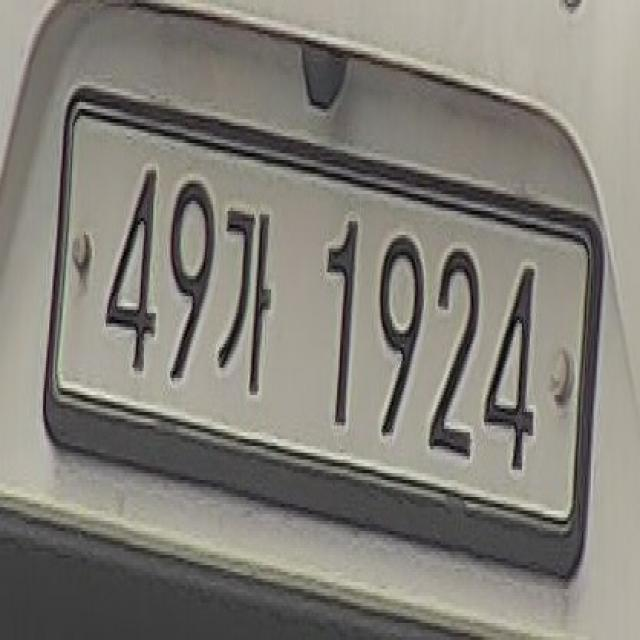1: (312, 204, 362, 446)
2: (430, 242, 480, 470)
4: (102, 144, 160, 388), (483, 251, 540, 489)
9: (371, 224, 426, 442), (165, 174, 215, 406)
ga: (217, 195, 276, 416)
license_plate: (28, 66, 616, 606)
